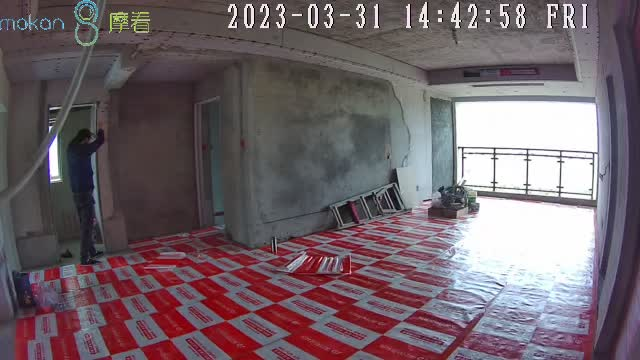people: (67, 128, 107, 265)
window: (453, 99, 600, 200)
